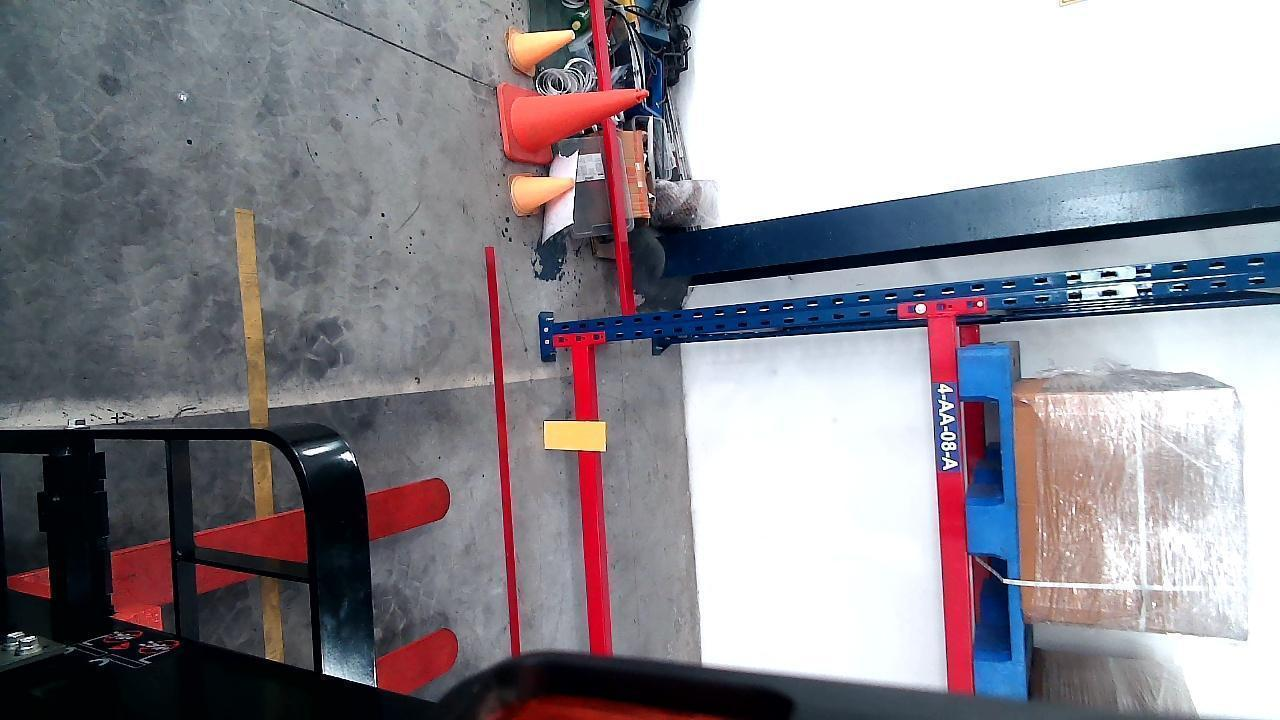red_line: (491, 252, 519, 675)
yellow_line: (246, 185, 277, 674), (233, 204, 272, 465)
